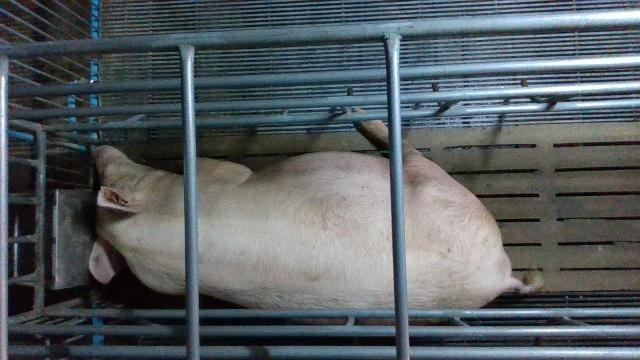sow-sleep: (87, 106, 546, 326)
